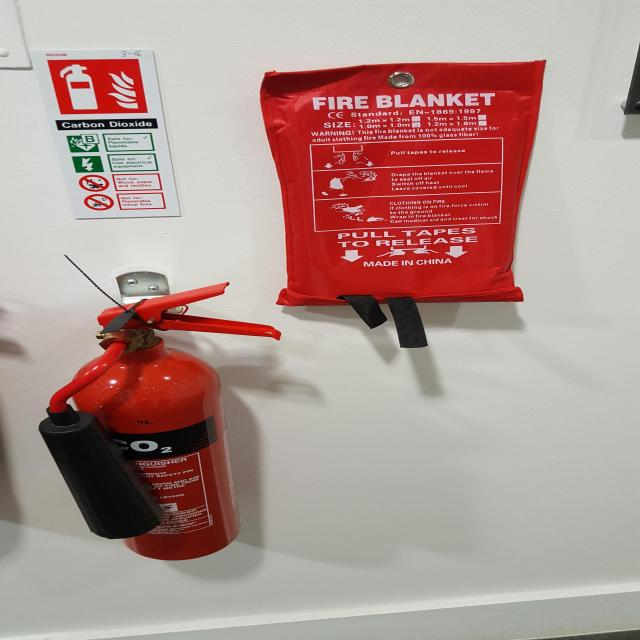fire_extinguisher: (31, 278, 291, 564)
